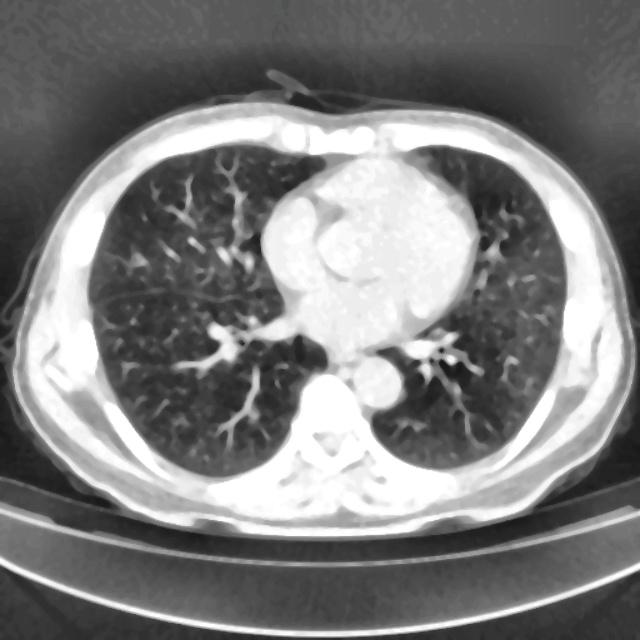covid: (7, 81, 636, 539)
